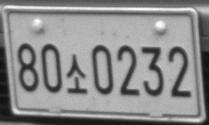0: (91, 43, 115, 95), (40, 42, 62, 93)
2: (167, 45, 191, 97), (116, 44, 140, 95)
3: (140, 46, 165, 96)
8: (17, 42, 39, 92)
소: (65, 52, 87, 94)
